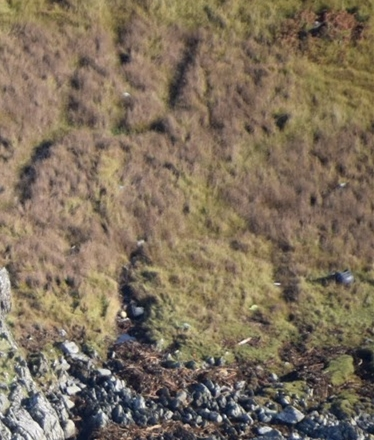white_in_green: (99, 284, 157, 337), (314, 251, 374, 302)
